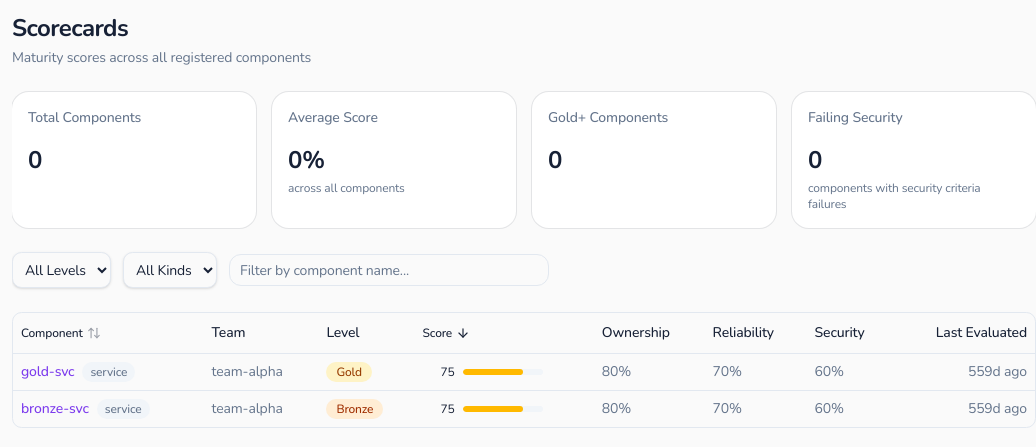
Test: ScorecardsClient › filters rows by level
Check: the link "gold-svc" is shown, box [21,362,74,380]
// Select "Gold" in the level filter dropdown
Select "Gold" in the dropdown named "Filter by level": (62, 270) [12,252,111,288]
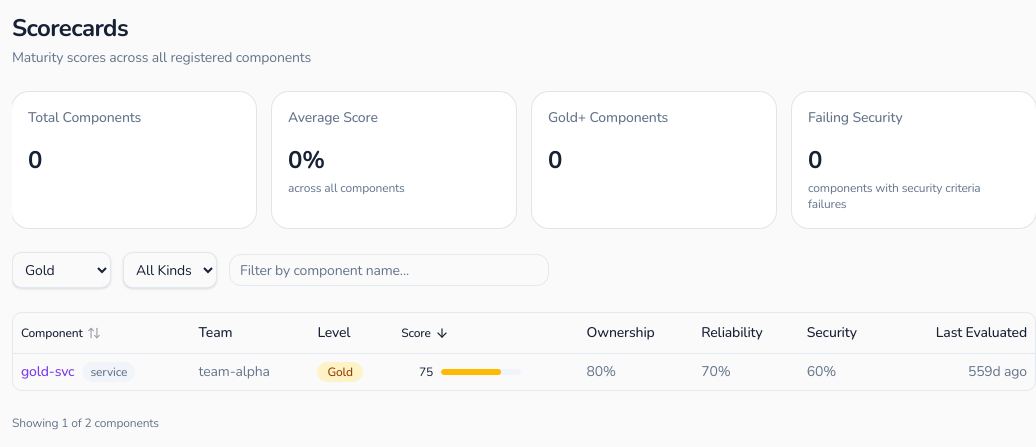
Check: the link "gold-svc" is shown, box [21,362,74,380]
Check: the link "bronze-svc" is gone
